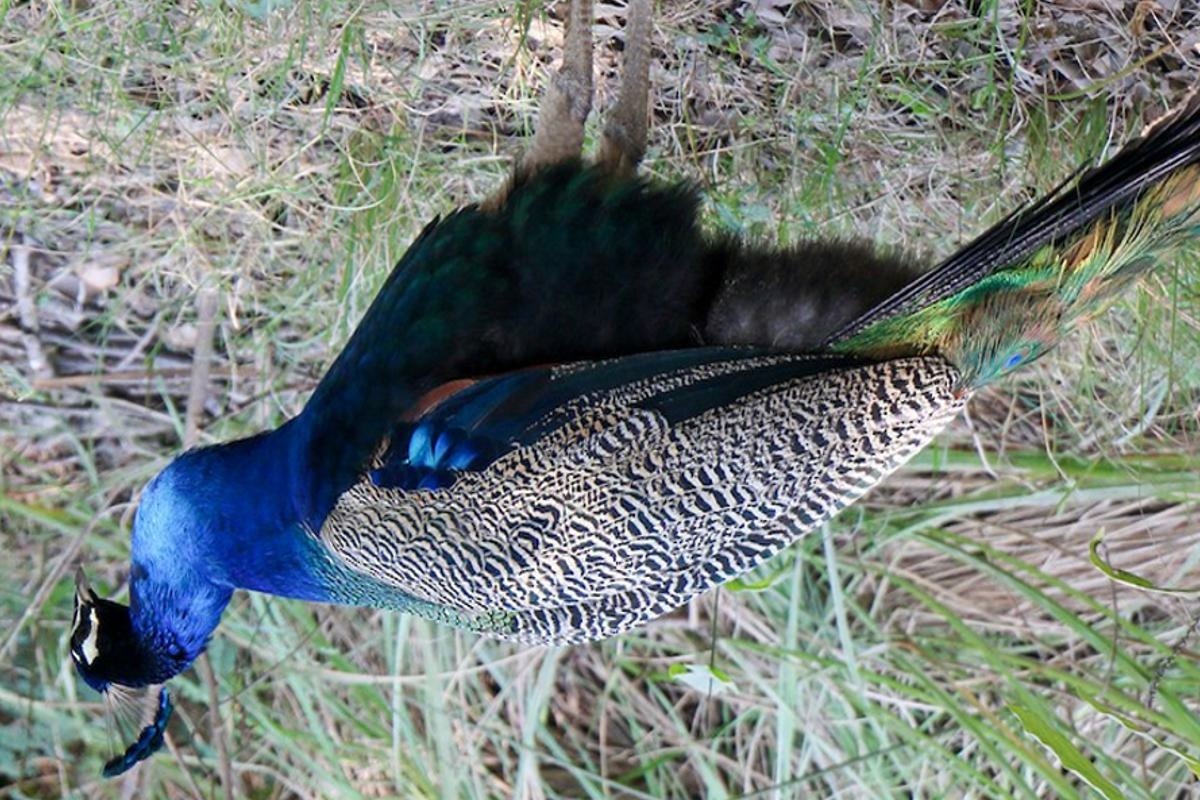peacock: (60, 4, 1200, 762)
